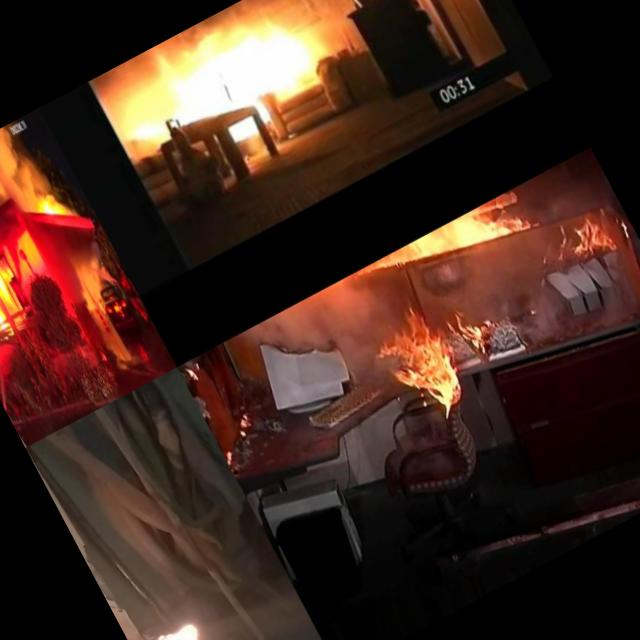fire: (102, 0, 327, 162), (384, 188, 534, 296), (380, 302, 478, 414), (110, 575, 230, 640), (549, 196, 620, 267), (32, 190, 63, 226), (0, 250, 16, 318), (0, 257, 21, 290), (0, 306, 15, 339)
smoke: (262, 272, 402, 412), (0, 131, 41, 277), (40, 237, 96, 316), (12, 152, 54, 200), (50, 182, 84, 226), (0, 124, 23, 163)
